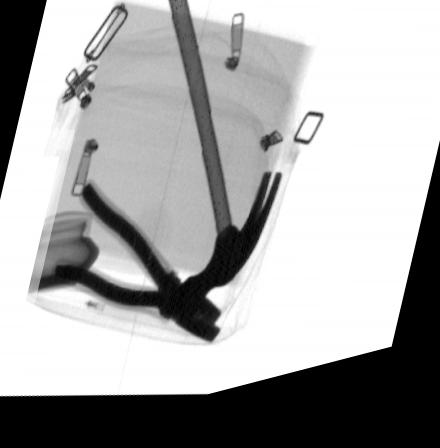Hammer: (166, 0, 283, 327)
Pliers: (50, 183, 222, 355)
